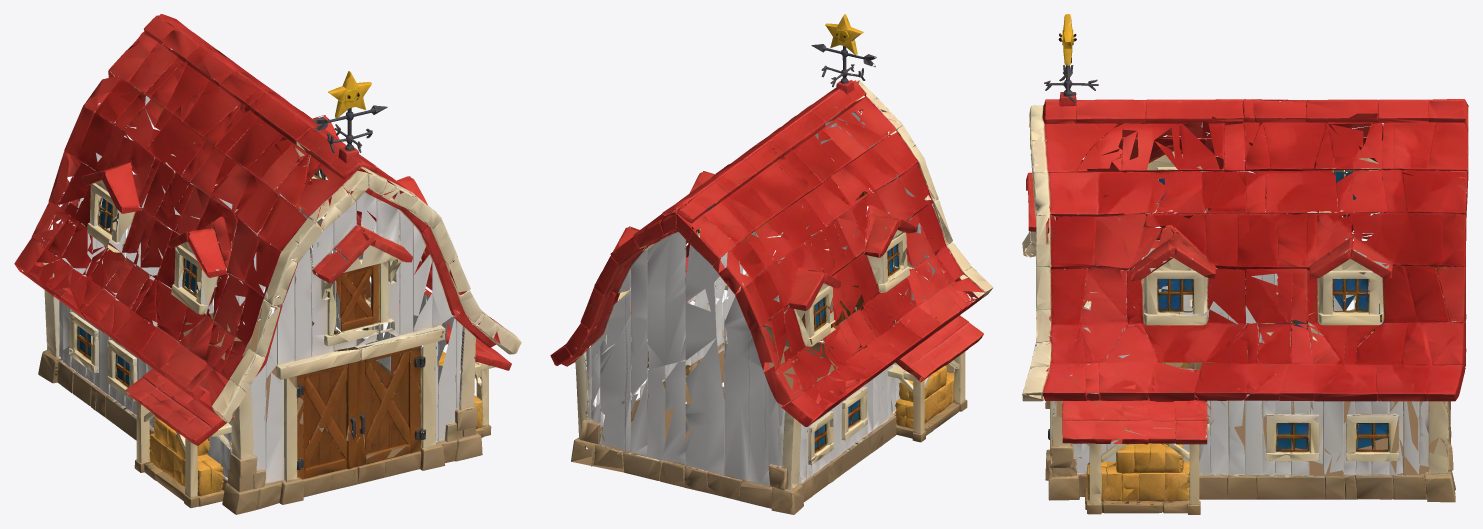
The model's file is farm_building.glb.
3 renders of one model, left to right at view 1: azimuth 30°, elevation 25°; view 2: azimuth 150°, elevation 25°; view 3: azimuth 270°, elevation 25°, orthographic. The views are drawn at different scales.
Visible parts, largest first — view 1: Object_2; view 2: Object_2; view 3: Object_2.
Boxes of the visible parts, x1=… form: Object_2: x1=14, y1=14, x2=521, y2=514; Object_2: x1=550, y1=14, x2=993, y2=514; Object_2: x1=1022, y1=14, x2=1468, y2=514.
Size of the model in its own units: 1.57 by 1.9 by 1.82.
Materials: 1 (1 with a texture image).
